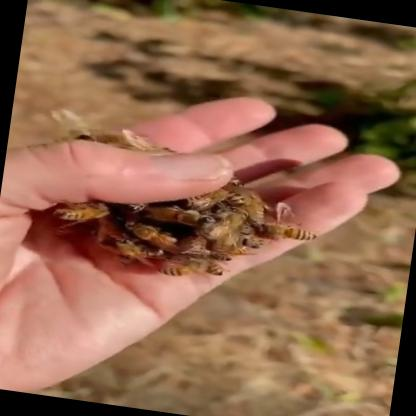bee: (29, 137, 328, 294)
